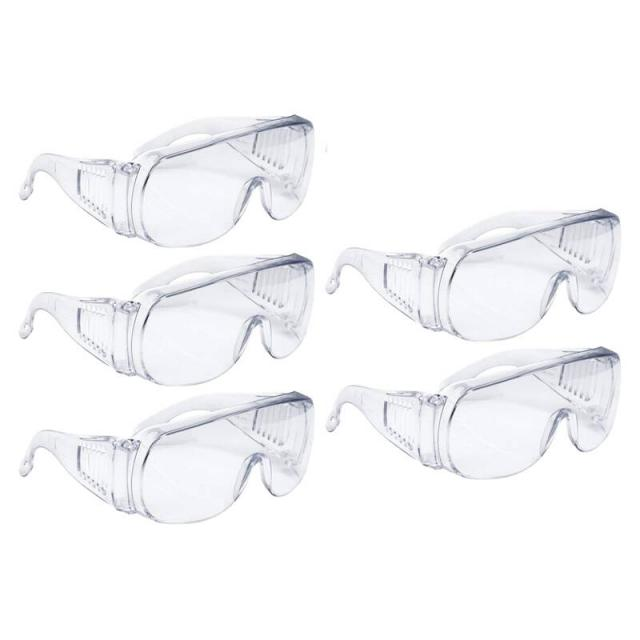Protective Glasses: (6, 64, 352, 261)
